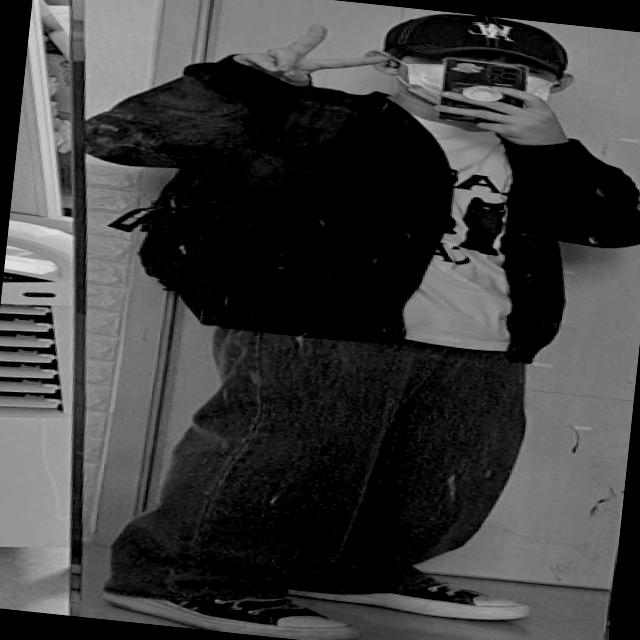cardigan: (54, 42, 640, 378)
slacks: (104, 294, 536, 639)
